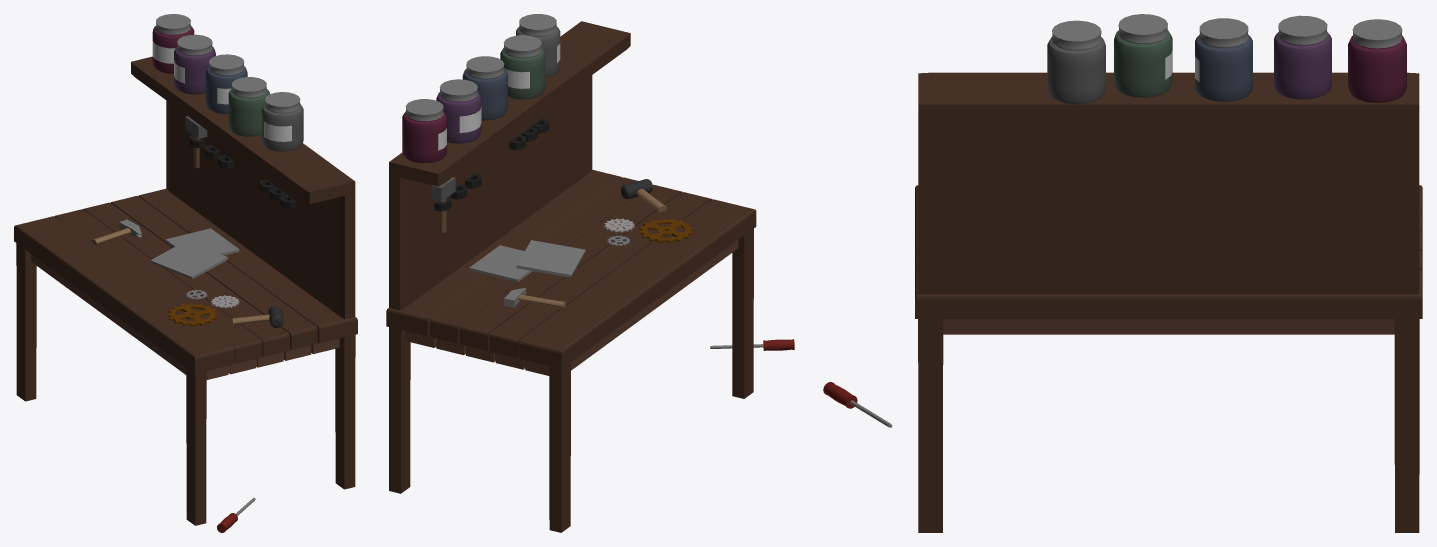
The model's file is workbench.glb.
The picture shows the model from 3 angles, left to right: view 1: azimuth 30°, elevation 25°; view 2: azimuth 150°, elevation 25°; view 3: azimuth 270°, elevation 25°; orthographic projection. The views are drawn at different scales.
Visible parts, largest first — view 1: workbench, jar 5, jar 4, jar 2, jar 3, metal sheet 2, jar 1, metal sheet 1, cog big, hammer 3, hammer 1, hammer 2; view 2: workbench, jar 1, jar 4, jar 2, jar 3, metal sheet 2, jar 5, metal sheet 1, cog big, hammer 3, hammer 1, hammer 2 (+1 smaller); view 3: workbench, jar 1, jar 4, jar 5, jar 3, jar 2, screwdriver 3.
Boxes of the visible parts, <box> form: workbench: <box>14,56,357,525</box>; jar 5: <box>261,92,303,151</box>; jar 4: <box>228,77,269,136</box>; jar 2: <box>174,34,215,94</box>; jar 3: <box>205,54,247,113</box>; metal sheet 2: <box>150,240,227,278</box>; jar 1: <box>152,14,194,73</box>; metal sheet 1: <box>165,228,239,255</box>; cog big: <box>167,303,217,326</box>; hammer 3: <box>232,305,283,328</box>; hammer 1: <box>92,219,141,244</box>; hammer 2: <box>185,116,207,168</box>; workbench: <box>386,21,756,532</box>; jar 1: <box>402,99,446,163</box>; jar 4: <box>500,35,545,99</box>; jar 2: <box>436,79,481,143</box>; jar 3: <box>462,56,507,120</box>; metal sheet 2: <box>516,240,585,276</box>; jar 5: <box>516,14,560,77</box>; metal sheet 1: <box>469,245,532,282</box>; cog big: <box>639,218,693,243</box>; hammer 3: <box>620,179,666,212</box>; hammer 1: <box>504,288,565,307</box>; hammer 2: <box>431,177,455,232</box>; workbench: <box>915,72,1422,532</box>; jar 1: <box>1348,19,1406,102</box>; jar 4: <box>1114,14,1172,97</box>; jar 5: <box>1047,20,1105,104</box>; jar 3: <box>1195,18,1252,101</box>; jar 2: <box>1274,15,1331,99</box>; screwdriver 3: <box>823,382,892,427</box>.
Bounding box in the file's own units: 1.07 × 2.11 × 2.33.
